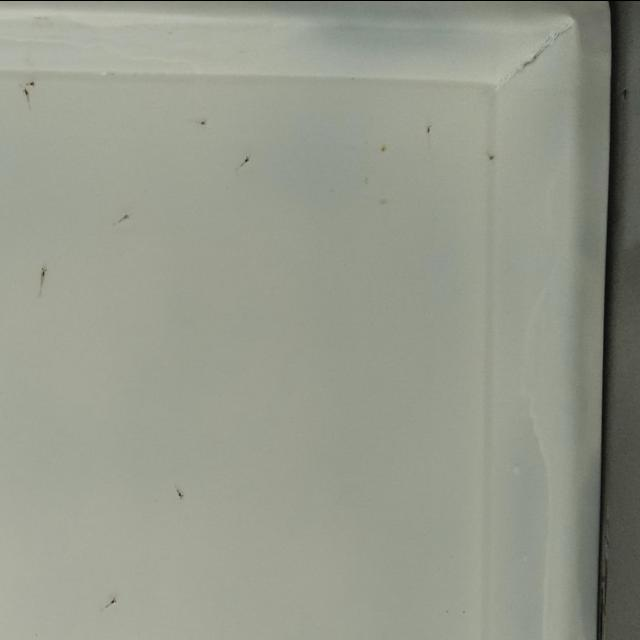shrimp-seed: (106, 594, 118, 609), (36, 265, 46, 282), (423, 122, 434, 136), (173, 488, 185, 500), (20, 86, 30, 98), (120, 211, 130, 223), (241, 154, 251, 166), (198, 117, 208, 127), (26, 77, 34, 89)
